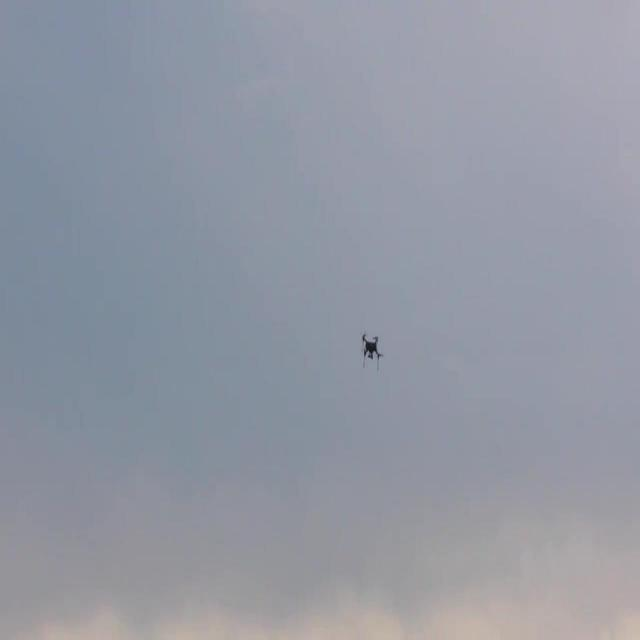UAV: (360, 332, 384, 372)
